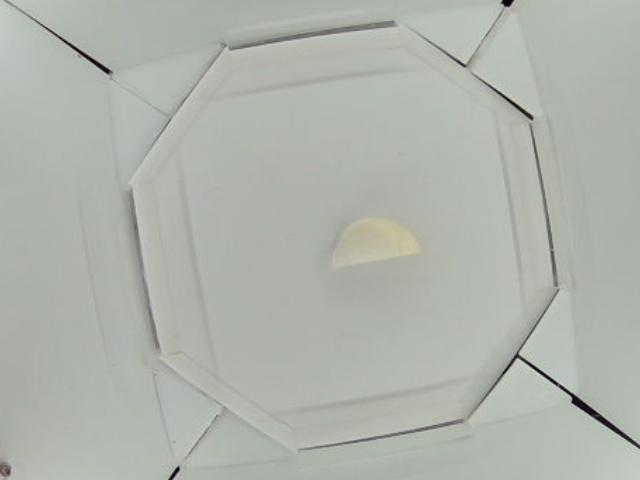Mooli: (330, 218, 422, 267)
